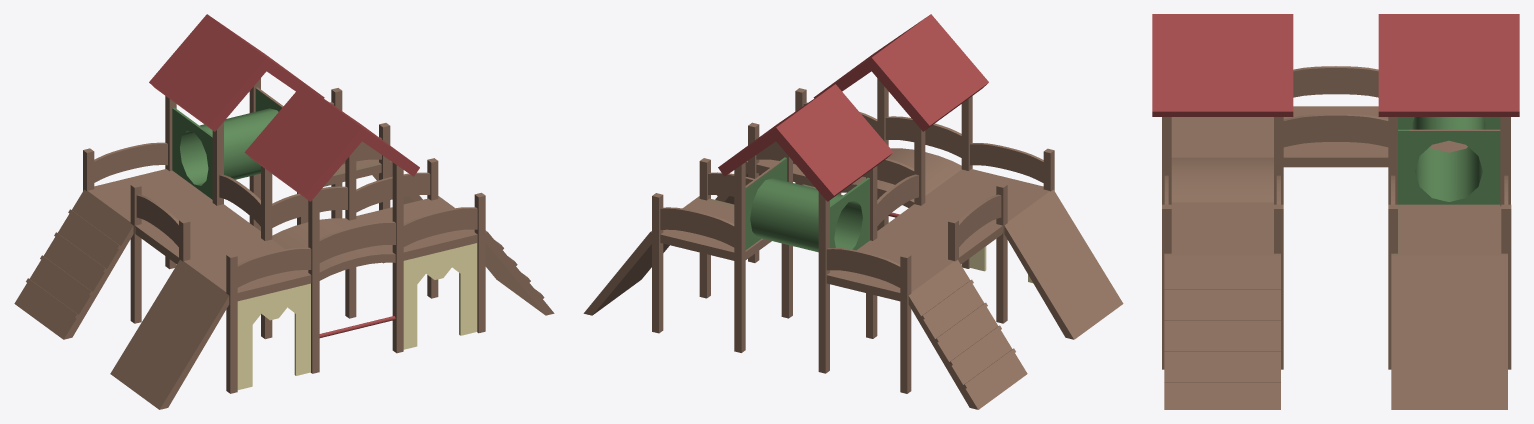
Rendered from play.fbx.
The picture shows the model from 3 angles, left to right: view 1: azimuth 30°, elevation 25°; view 2: azimuth 150°, elevation 25°; view 3: azimuth 270°, elevation 25°; orthographic projection. The views are drawn at different scales.
Parts seen in each view (by area): view 1: Cube; view 2: Cube; view 3: Cube.
Boxes of the visible parts, x1,y1,x2,y2 form: Cube: [14, 14, 554, 409]; Cube: [583, 14, 1123, 409]; Cube: [1152, 14, 1519, 409].
Size of the model in its own units: 469 by 270 by 319.
1 material, 1 textured.
